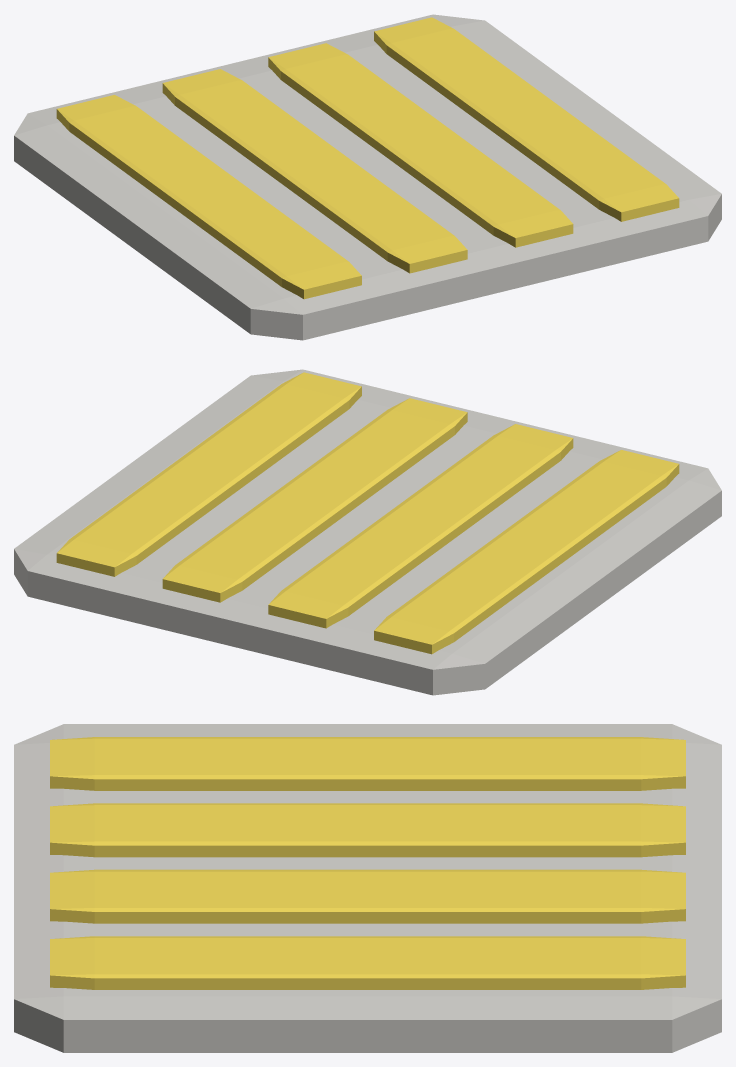
Rendered from b13_dual_direction_corner_ramps.glb.
3 renders of one model, top to bottom at view 1: azimuth 30°, elevation 25°; view 2: azimuth 150°, elevation 25°; view 3: azimuth 270°, elevation 25°, orthographic. The views are drawn at different scales.
Parts seen in each view (by area): view 1: b13_dual_direction_corner_ramps; view 2: b13_dual_direction_corner_ramps; view 3: b13_dual_direction_corner_ramps.
Part boxes in pixels (x1=…): b13_dual_direction_corner_ramps: x1=14, y1=14, x2=721, y2=340; b13_dual_direction_corner_ramps: x1=14, y1=369, x2=721, y2=695; b13_dual_direction_corner_ramps: x1=14, y1=724, x2=721, y2=1052.
Size of the model in its own units: 2.97 by 0.24 by 3.01.
